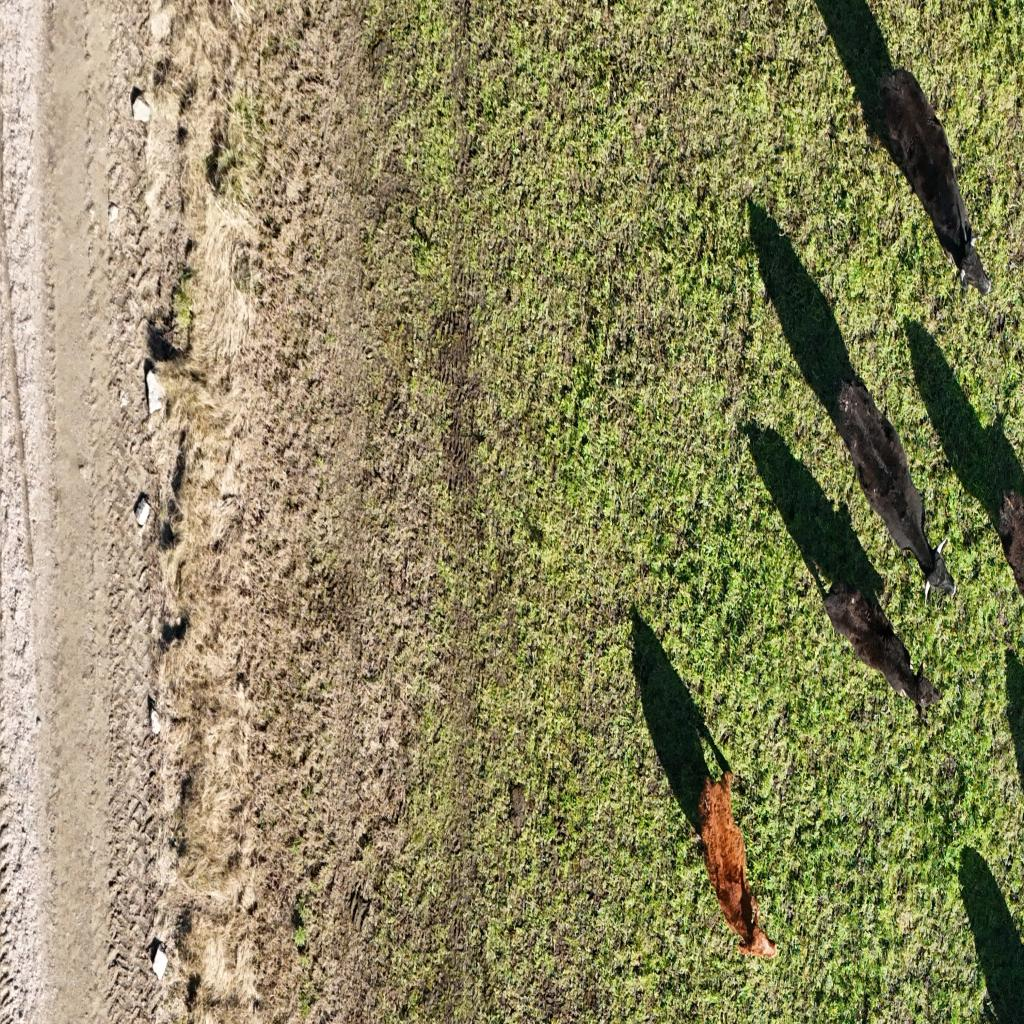cow: (871, 63, 996, 304), (832, 374, 956, 606), (819, 577, 947, 728), (699, 770, 781, 960)
